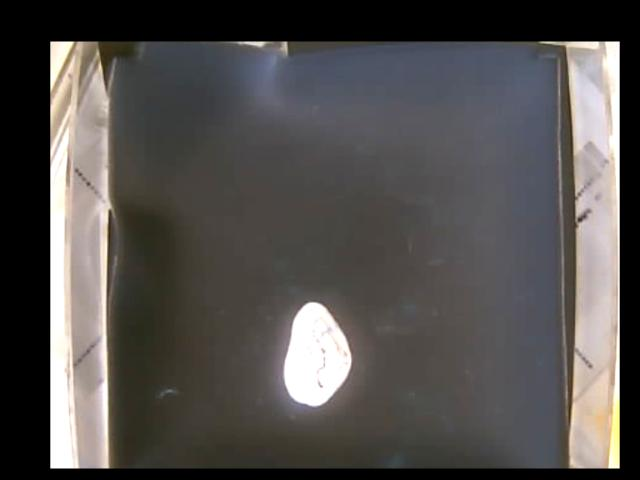Pebble: (283, 301, 350, 407)
